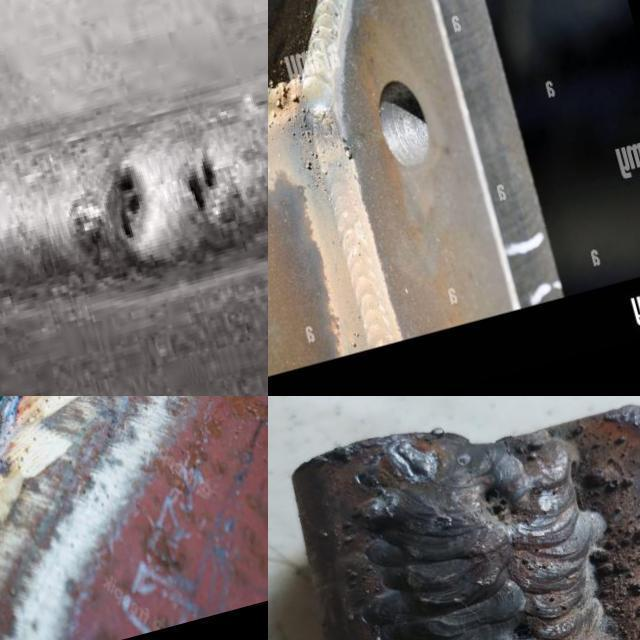defect: (110, 162, 146, 251), (183, 147, 215, 221), (268, 81, 305, 128), (476, 484, 518, 520), (286, 106, 315, 144), (503, 616, 536, 640), (428, 515, 457, 530), (300, 156, 312, 171), (343, 147, 354, 161), (319, 164, 328, 176), (309, 150, 319, 159)
